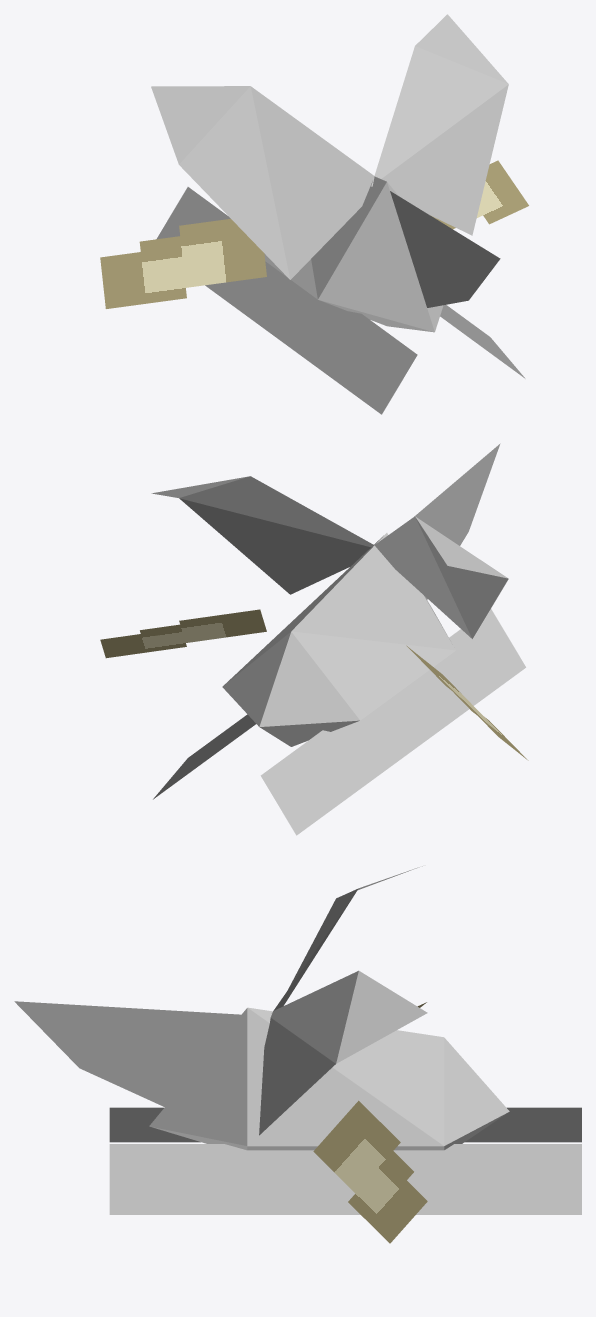
3 renders of one model, top to bottom at view 1: azimuth 30°, elevation 25°; view 2: azimuth 150°, elevation 25°; view 3: azimuth 270°, elevation 25°, orthographic. The views are drawn at different scales.
Parts seen in each view (by area): view 1: mesh00; view 2: mesh00; view 3: mesh00.
Part boxes in pixels (bbox=[...]): mesh00: bbox=[100, 14, 528, 414]; mesh00: bbox=[100, 443, 528, 835]; mesh00: bbox=[14, 866, 581, 1243].
Size of the model in its own units: 10.04 by 4.19 by 8.66.
